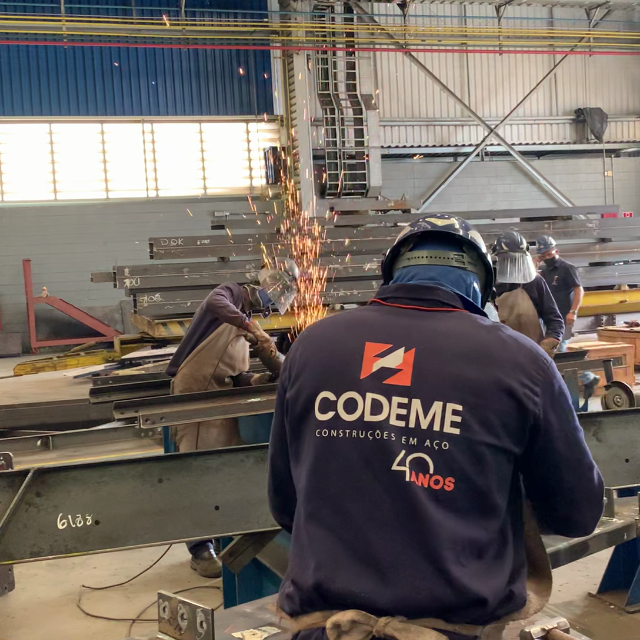face-shield: (255, 263, 300, 315)
glove: (247, 320, 282, 367)
helmet: (381, 213, 496, 309)
person: (267, 213, 604, 627), (164, 255, 309, 392)
safety-shoe: (190, 548, 224, 577)
